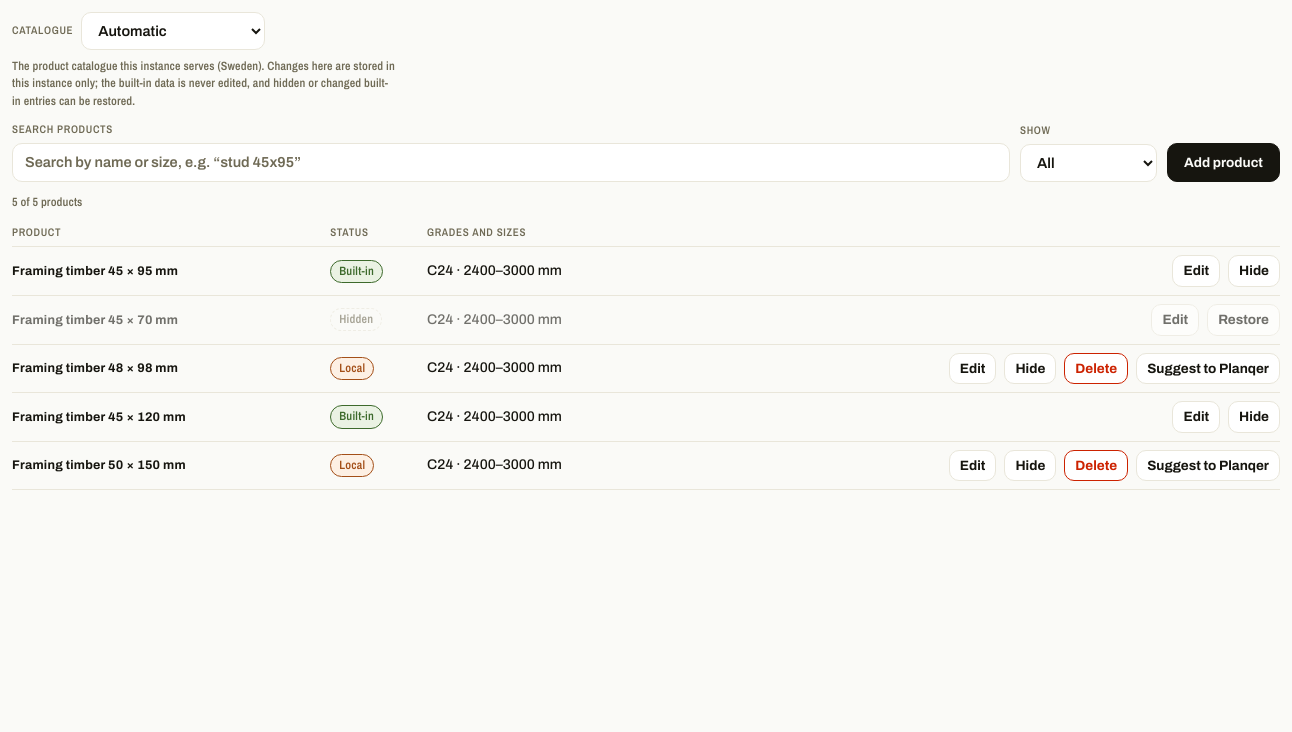
Test: AdminCatalogue › pre-fills the source the built-in products of the same type cite
Check: the text "Framing timber 50 × 150 mm" is shown, box [12,441,330,490]
Step 1. Click the button "Suggest to Planqer" in the row of "Framing timber 50 × 150 mm" → (1208, 466), box [1136,450,1280,481]
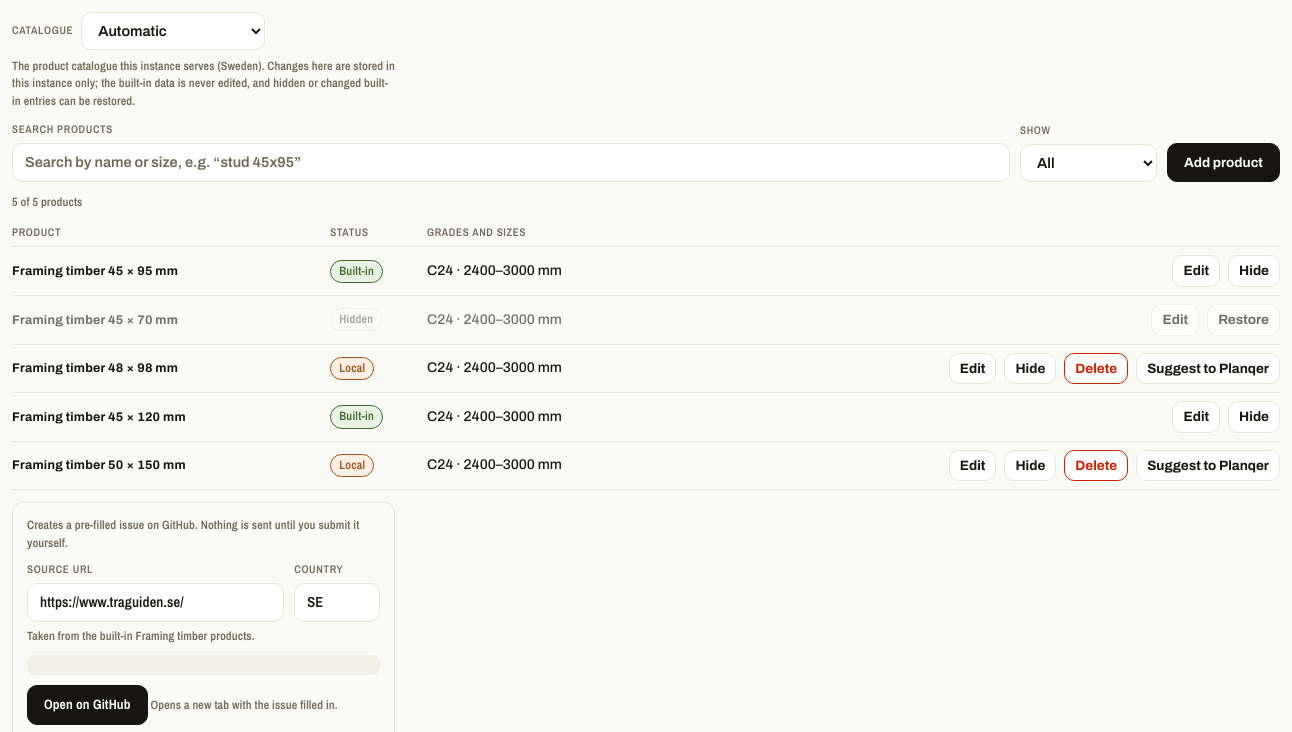
Check: the field labelled "Source URL" holds "https://www.traguiden.se/"
Check: the text "Taken from the built-in Framing timber products." is shown, box [27,628,284,645]
Step 2. Replace the text in the field labelled "Source URL" with "https://example.com/regel" → (156, 602), box [27,583,284,622]
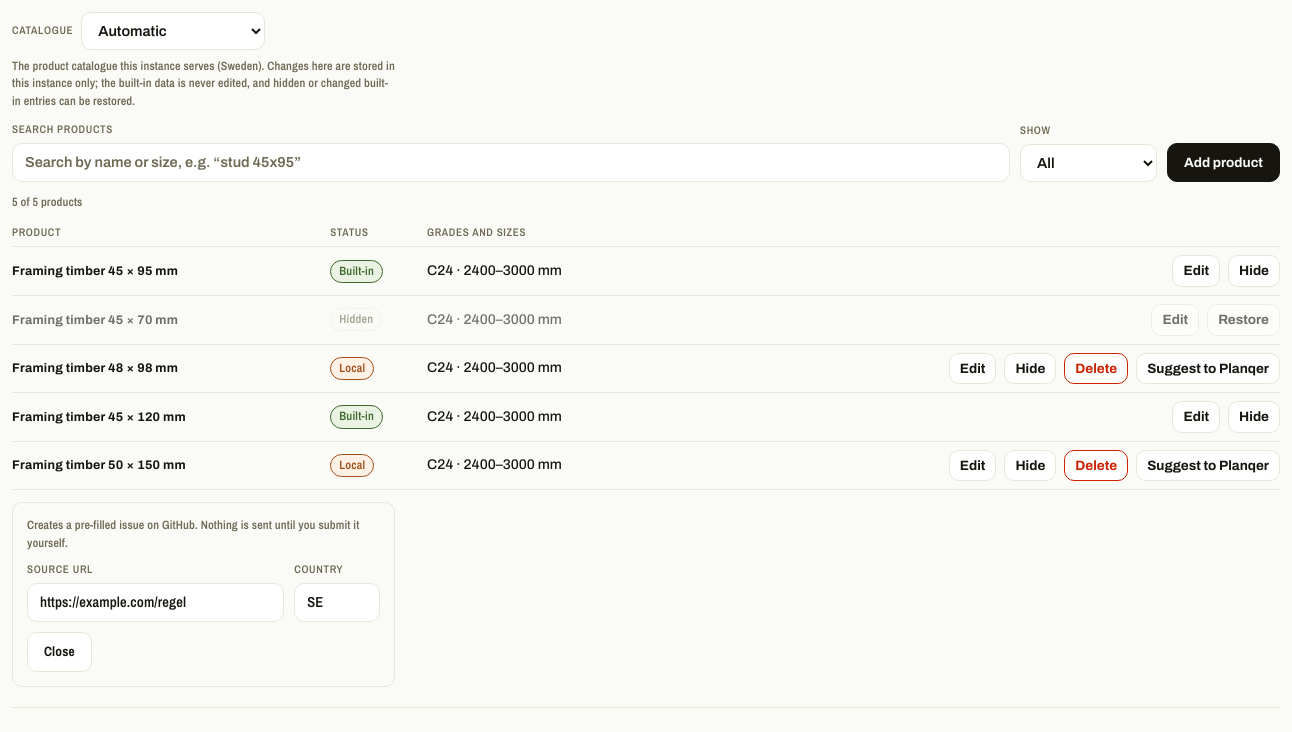
Check: the text "Taken from the built-in" is gone
